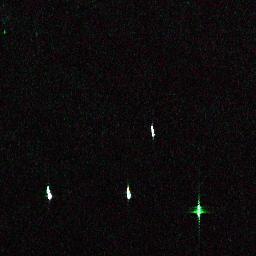ship: (148, 124, 157, 140), (44, 184, 53, 200), (124, 185, 132, 200), (195, 203, 202, 217)
